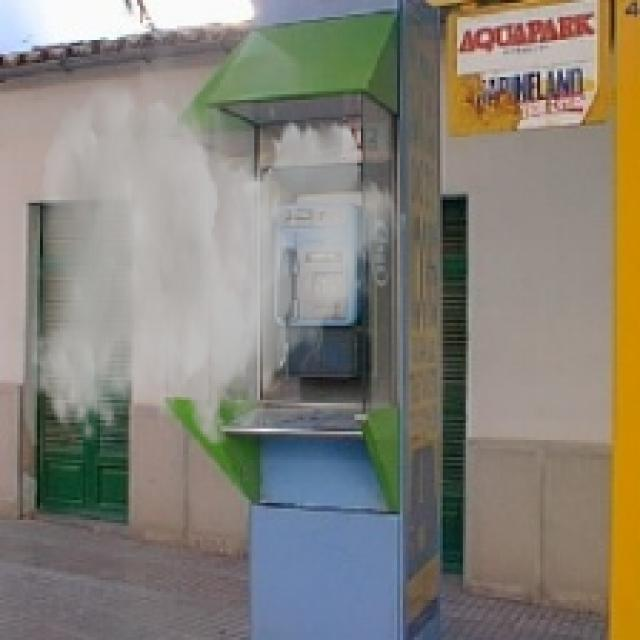Smoke: (29, 31, 408, 448)
